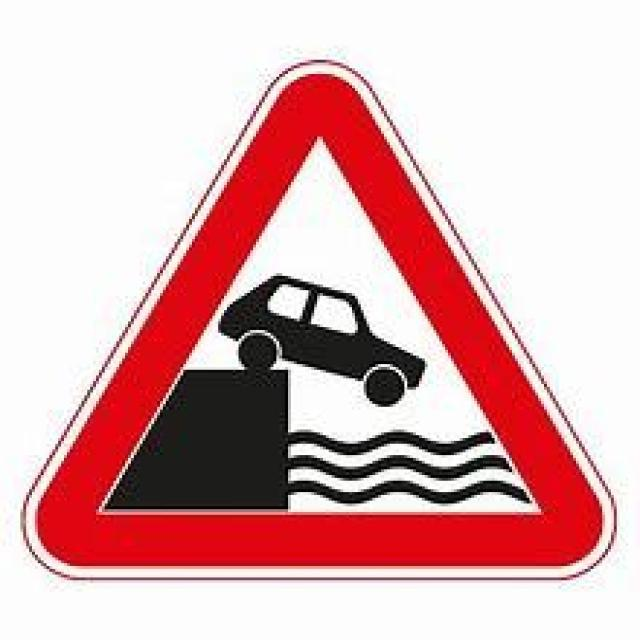quay side or river bank: (28, 59, 610, 575)
